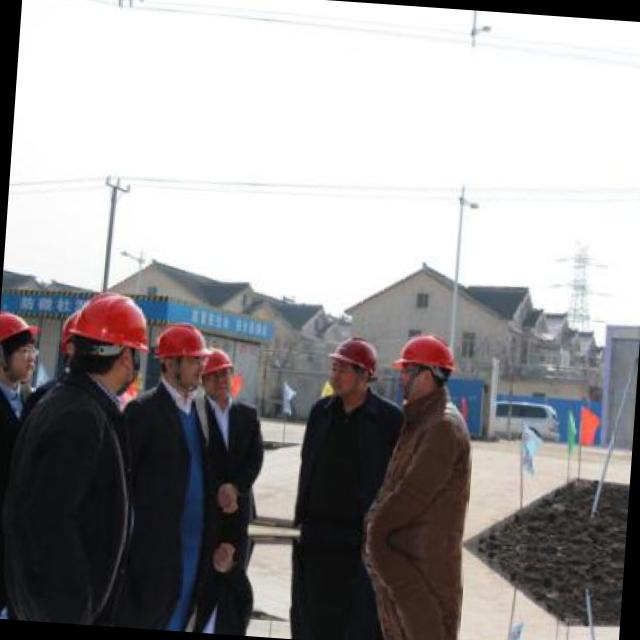helmet: (64, 288, 150, 396), (391, 330, 458, 405), (150, 318, 207, 392), (322, 332, 380, 402), (0, 310, 41, 381), (198, 345, 232, 398)
